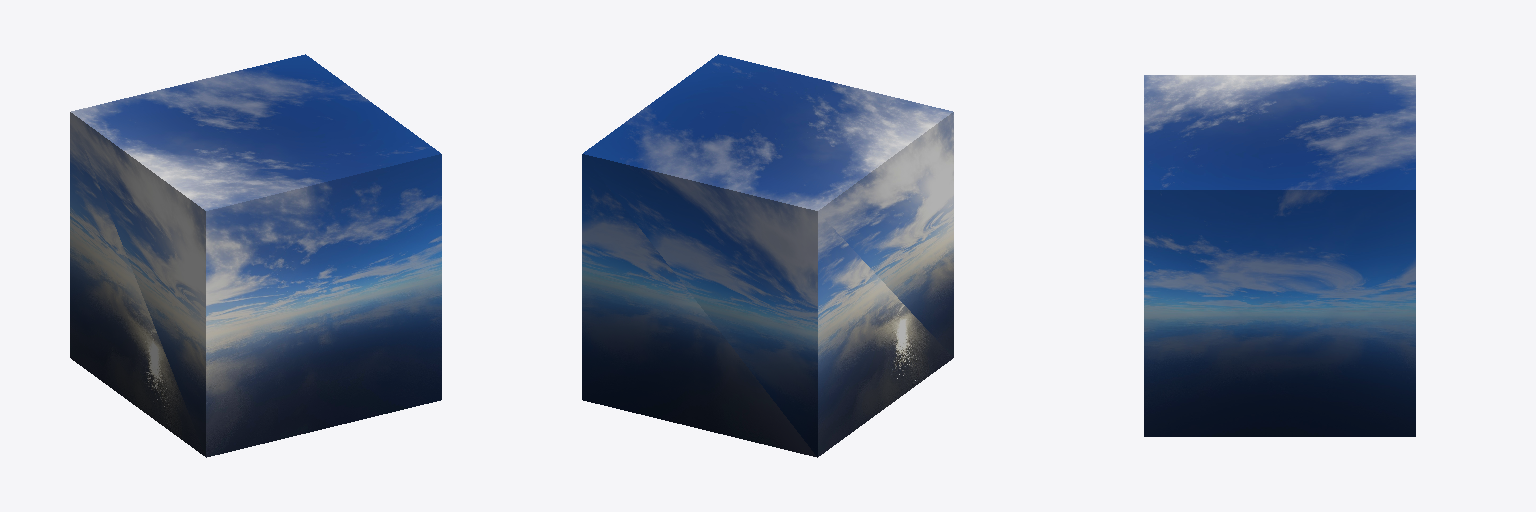
3 renders of one model, left to right at view 1: azimuth 30°, elevation 25°; view 2: azimuth 150°, elevation 25°; view 3: azimuth 270°, elevation 25°, orthographic.
Size of the model in its own units: 2000 by 2000 by 2000.
6 materials, 6 textured.